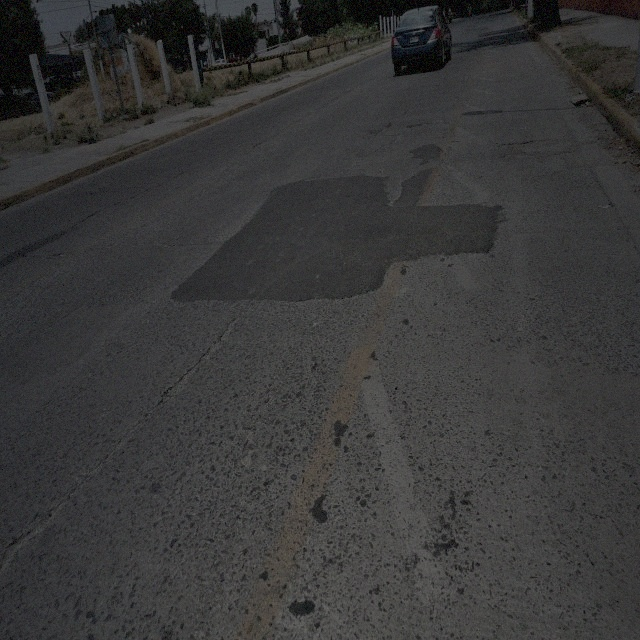pothole: (500, 139, 559, 153)
